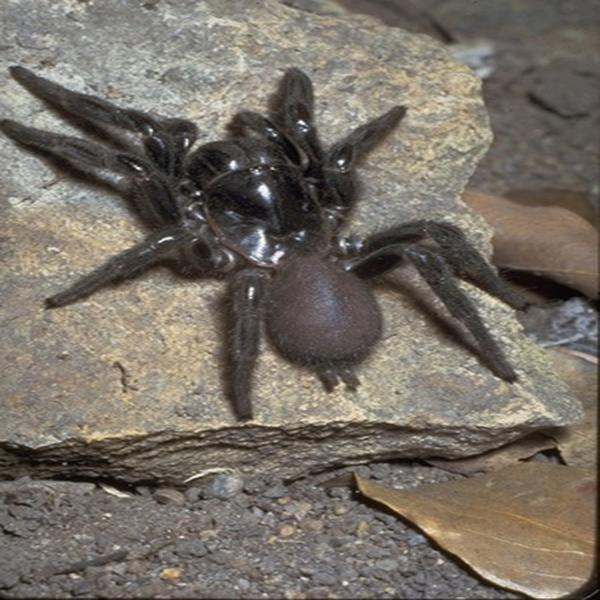Funnel Web Spider: (17, 63, 523, 415)
